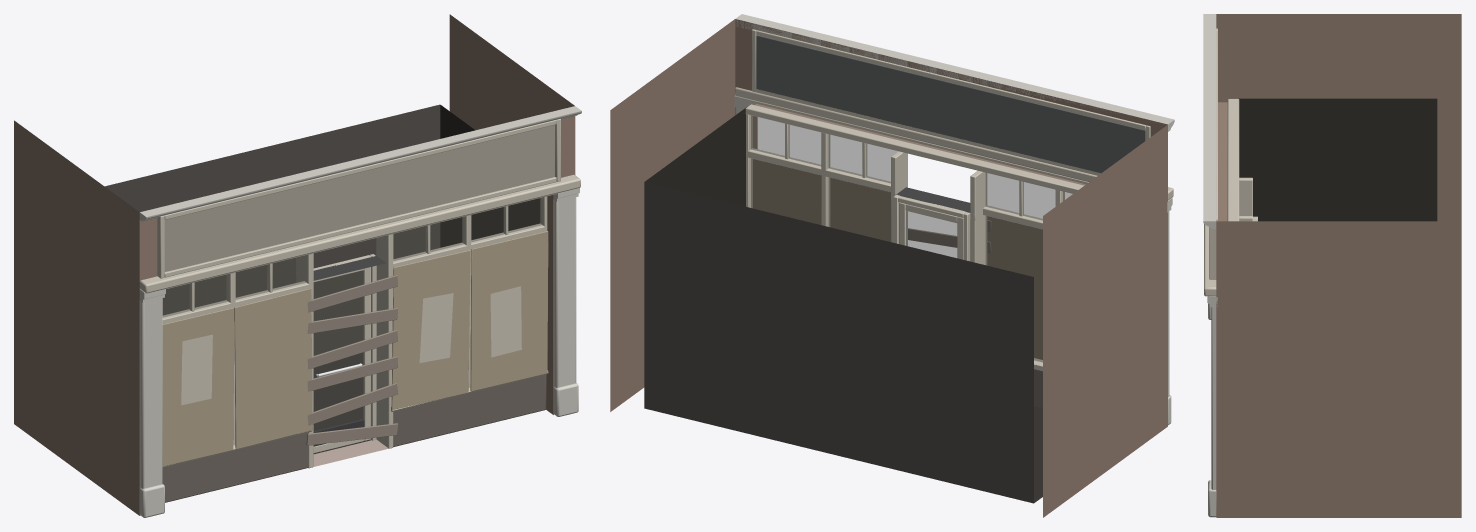
Rendered from boarded_6a.glb.
3 renders of one model, left to right at view 1: azimuth 30°, elevation 25°; view 2: azimuth 150°, elevation 25°; view 3: azimuth 270°, elevation 25°, orthographic. The views are drawn at different scales.
Parts seen in each view (by area): view 1: boarded_6a; view 2: boarded_6a; view 3: boarded_6a.
Boxes of the visible parts, <box> form: boarded_6a: <box>14,14,581,517</box>; boarded_6a: <box>610,14,1174,517</box>; boarded_6a: <box>1203,14,1461,517</box>.
Bounding box in the file's own units: 6 × 4 × 3.16.
